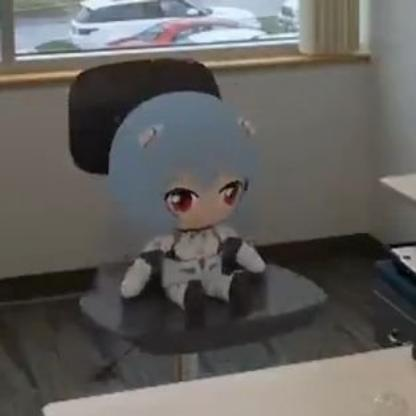rei-plush: (94, 82, 282, 322)
